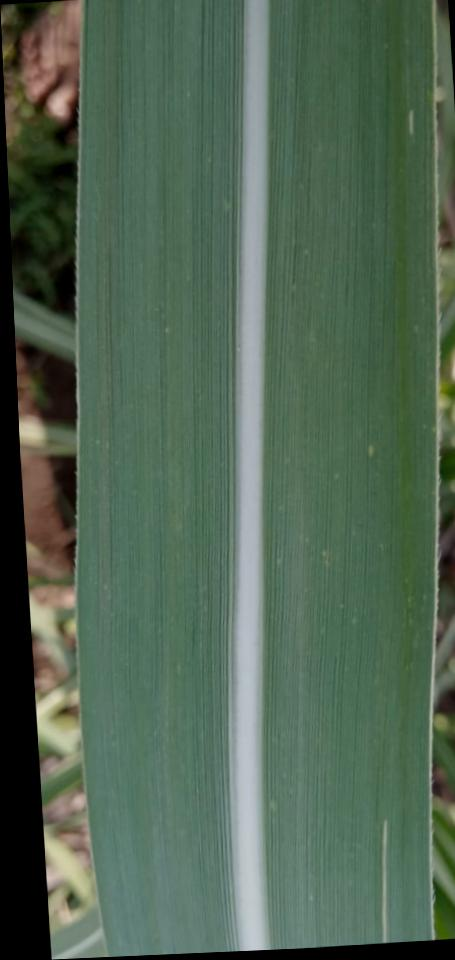Healthy: (261, 0, 436, 950), (74, 0, 244, 957)
